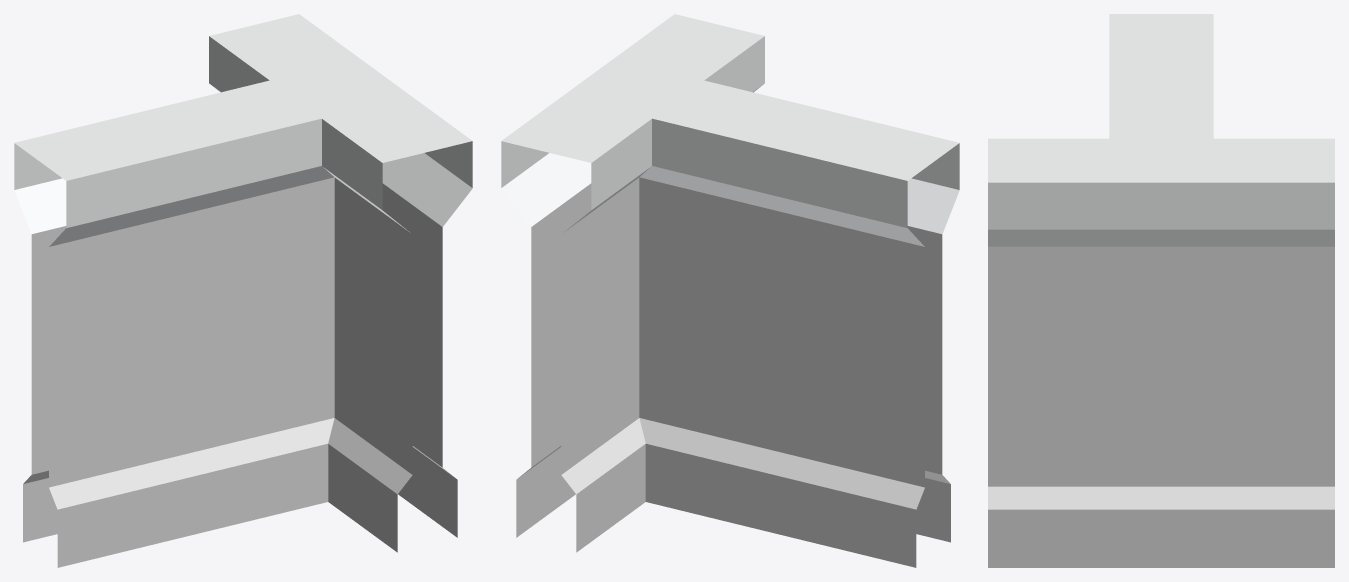
The model's file is wall_t_l.fbx.
3 renders of one model, left to right at view 1: azimuth 30°, elevation 25°; view 2: azimuth 150°, elevation 25°; view 3: azimuth 270°, elevation 25°, orthographic.
Parts seen in each view (by area): view 1: wall_t_l; view 2: wall_t_l; view 3: wall_t_l.
Boxes of the visible parts, box(x1,y1,x2,y2) form: wall_t_l: box(14, 14, 472, 567); wall_t_l: box(501, 14, 959, 567); wall_t_l: box(988, 14, 1334, 567).
Size of the model in its own units: 2.3 by 2.5 by 2.
